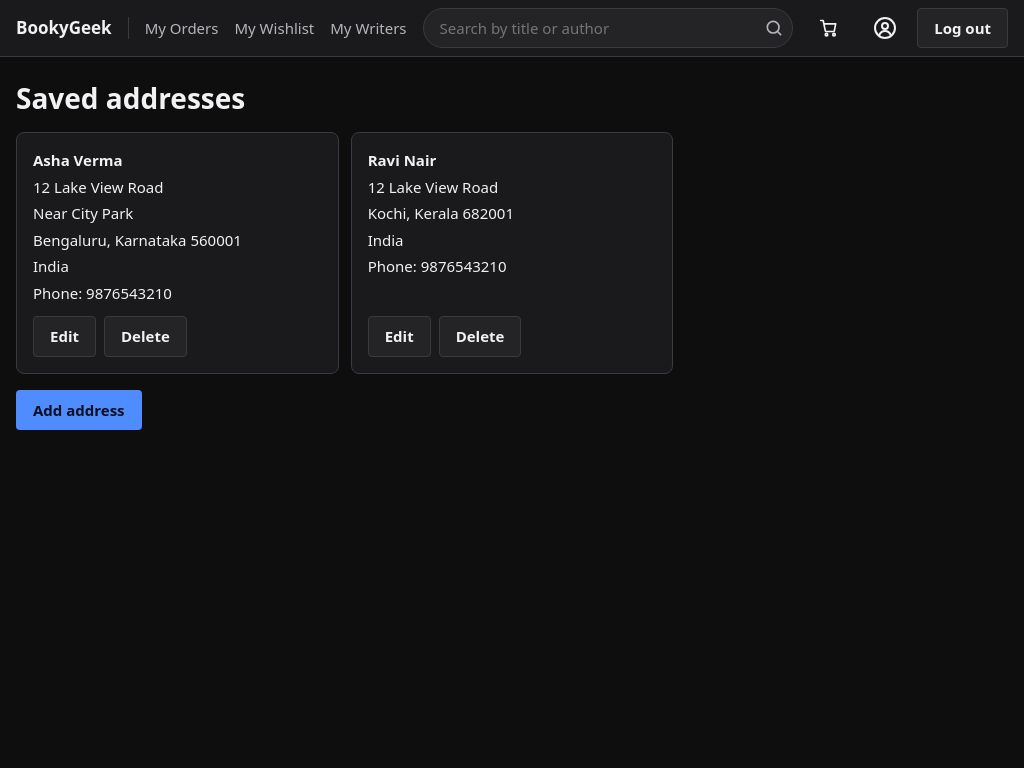
Test case: AddressesPage › shows a failed delete in the dialog
Click the button "Delete" below "Asha Verma" at (145, 336), box [104, 316, 187, 356]
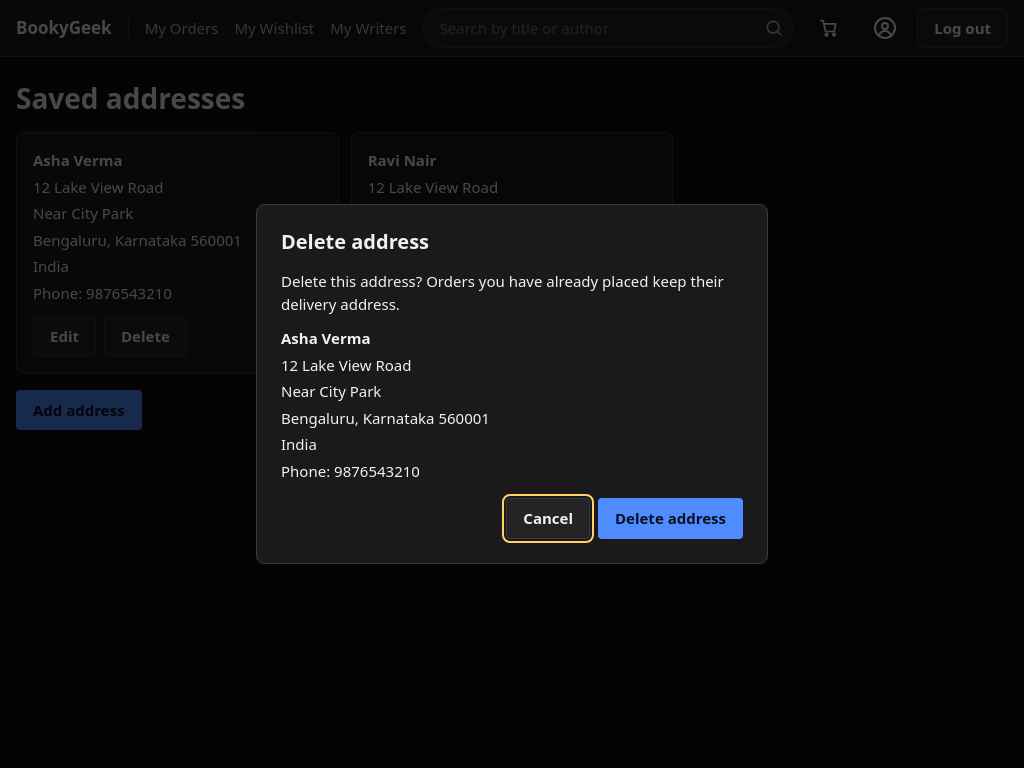
Click the button "Delete address" at (670, 519), box [598, 498, 743, 539]
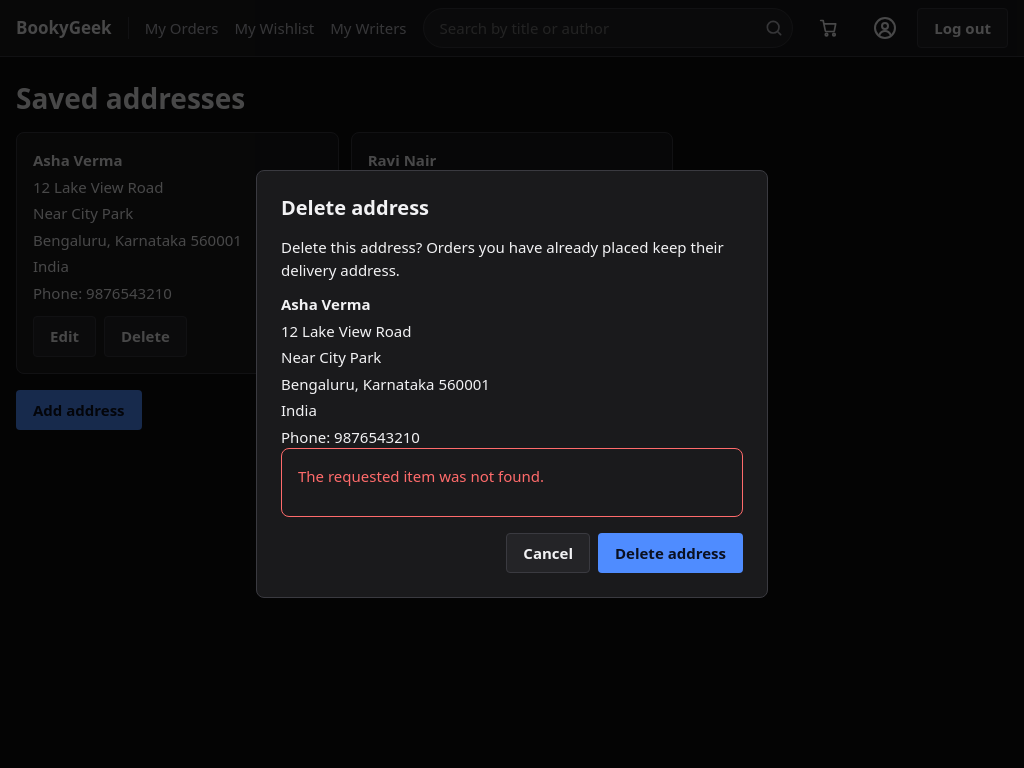
expect the message reads "The requested item was not found.": met, box [298, 466, 544, 486]
